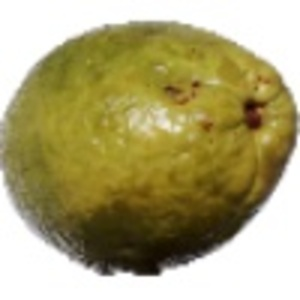goiaba: (5, 14, 297, 273)
